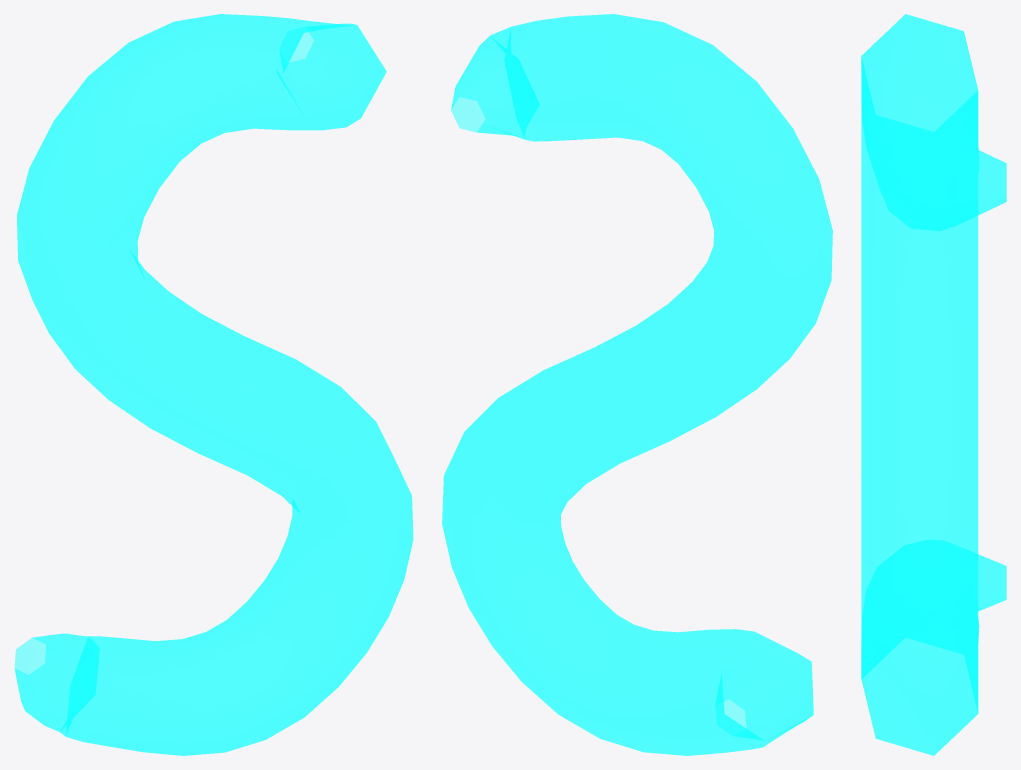
3 views of the same model, side by side, from view 1: azimuth 30°, elevation 25°; view 2: azimuth 150°, elevation 25°; view 3: azimuth 270°, elevation 25° (orthographic). The views are drawn at different scales.
Visible parts, largest first — view 1: neon_letter_s.001_150; view 2: neon_letter_s.001_150; view 3: neon_letter_s.001_150.
Part boxes in pixels (box(x1,y1,x2,y2)): neon_letter_s.001_150: box(14, 14, 413, 755); neon_letter_s.001_150: box(442, 14, 832, 755); neon_letter_s.001_150: box(861, 14, 1006, 755).
Size of the model in its own units: 0.4914 by 0.8996 by 0.1683.
